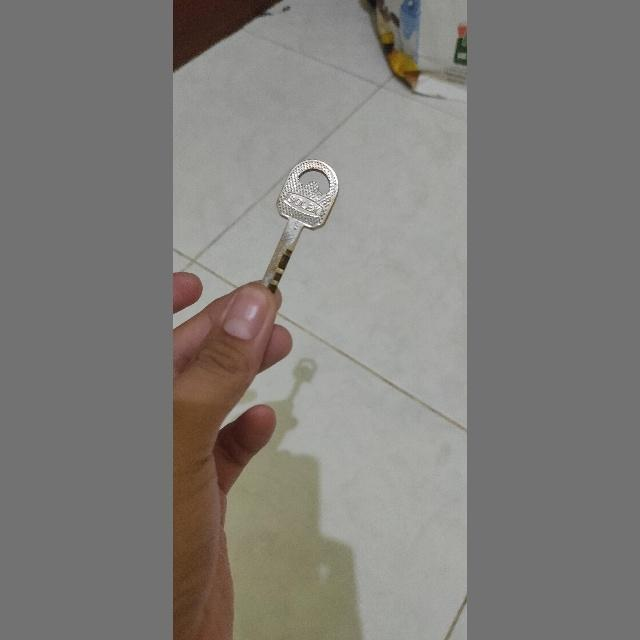Keys: (258, 145, 346, 303)
